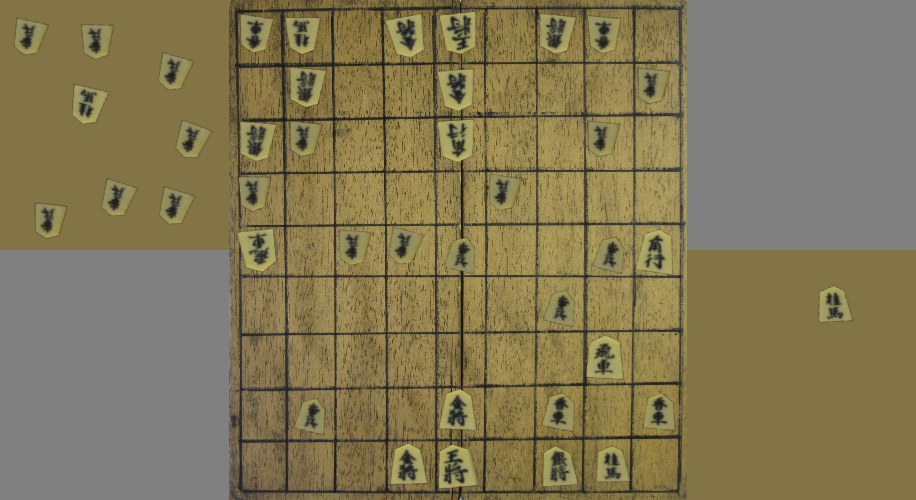A: (440, 446, 476, 488), (588, 337, 623, 379), (391, 445, 426, 485), (638, 231, 671, 273), (441, 391, 475, 430), (544, 447, 577, 486), (597, 448, 629, 481), (544, 395, 574, 430), (544, 292, 573, 326), (295, 400, 324, 434), (594, 239, 623, 273), (645, 395, 673, 429), (447, 239, 475, 272)
B: (239, 230, 275, 271), (387, 15, 423, 56), (438, 70, 472, 110), (441, 13, 475, 52), (439, 121, 472, 161), (541, 15, 575, 52), (291, 69, 324, 106), (241, 123, 274, 160), (588, 17, 620, 53), (390, 228, 422, 263), (286, 18, 318, 53), (588, 122, 619, 156), (638, 69, 669, 103), (241, 16, 271, 51), (290, 123, 321, 155), (340, 231, 370, 264), (490, 176, 519, 209), (241, 178, 269, 210)
C: (819, 287, 852, 322)
D: (74, 86, 107, 123), (177, 122, 211, 157), (103, 180, 136, 215), (159, 54, 192, 89), (161, 188, 193, 224), (15, 19, 46, 54), (35, 203, 66, 238), (82, 25, 112, 58)
